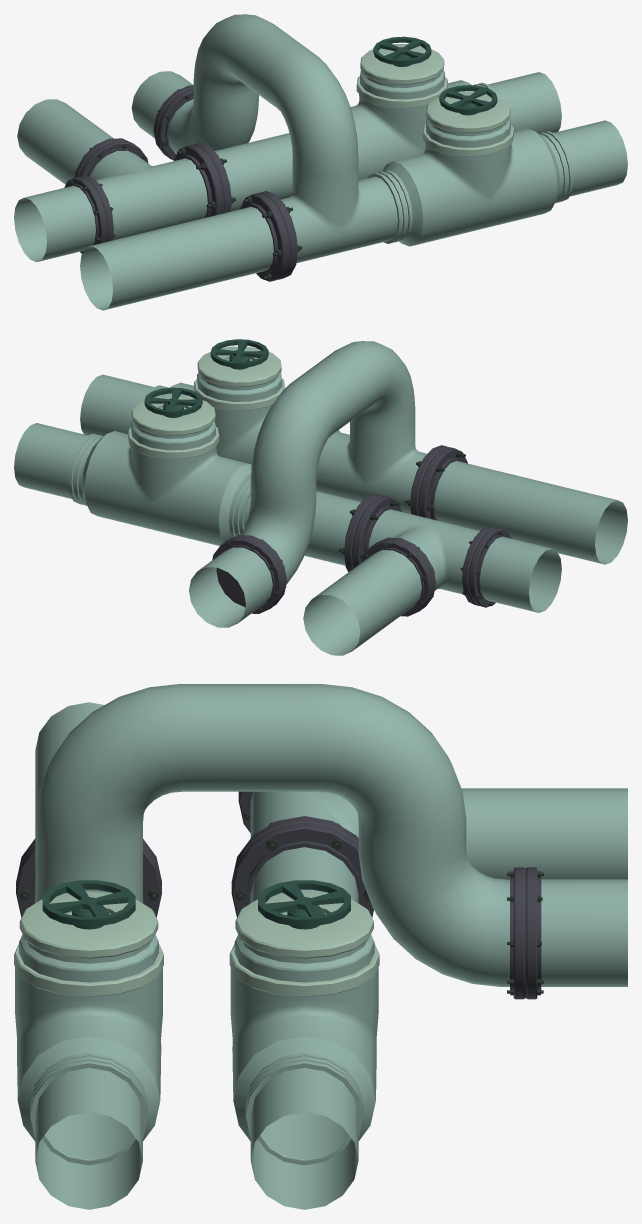
File: PipeComplexLarge_A2_09.fbx
The picture shows the model from 3 angles, top to bottom: view 1: azimuth 30°, elevation 25°; view 2: azimuth 150°, elevation 25°; view 3: azimuth 270°, elevation 25°; orthographic projection. The views are drawn at different scales.
Parts seen in each view (by area): view 1: PipeComplexLarge_A2_09.001; view 2: PipeComplexLarge_A2_09.001; view 3: PipeComplexLarge_A2_09.001.
Part boxes in pixels (<box>): PipeComplexLarge_A2_09.001: <box>14,14,627,310</box>; PipeComplexLarge_A2_09.001: <box>14,339,627,655</box>; PipeComplexLarge_A2_09.001: <box>14,684,627,1209</box>.
Size of the model in its own units: 1.8 by 0.6356 by 1.14.
